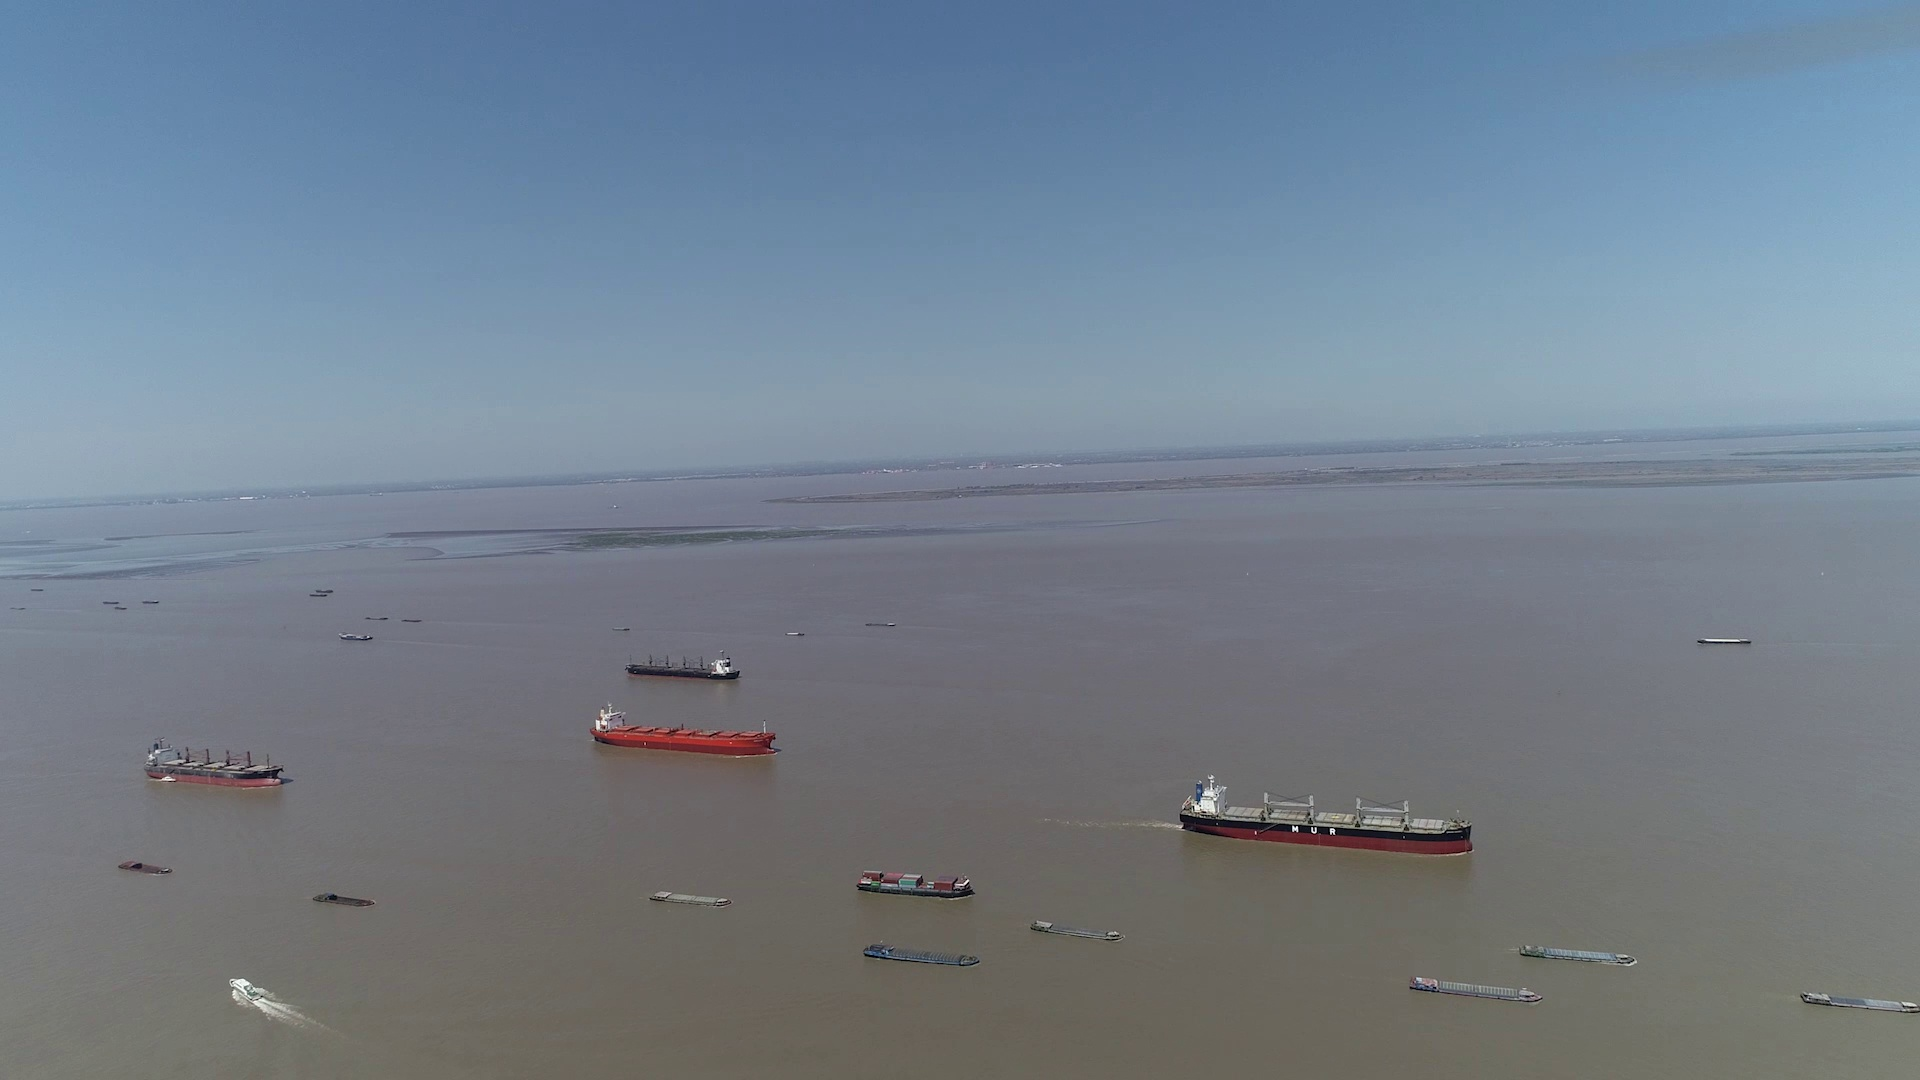ship: (1178, 775, 1473, 855), (592, 705, 771, 754), (146, 737, 287, 787), (1408, 975, 1543, 1004), (626, 651, 742, 680), (856, 870, 972, 897), (862, 943, 978, 967), (1800, 992, 1919, 1014), (1520, 943, 1636, 965), (1030, 919, 1122, 942), (647, 890, 731, 906), (231, 975, 265, 1004), (313, 891, 375, 906), (117, 861, 173, 876), (1697, 637, 1751, 645), (339, 632, 373, 640)
